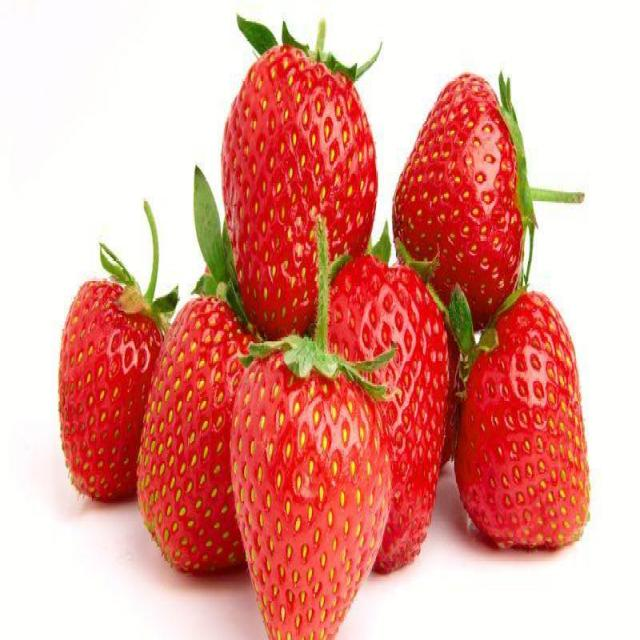strawberry: (234, 326, 393, 640), (223, 35, 378, 332), (330, 255, 447, 577), (458, 294, 592, 551), (389, 71, 536, 291), (143, 280, 239, 574), (59, 266, 142, 506)
